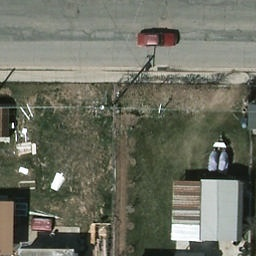boat: (218, 149, 231, 174), (208, 149, 220, 173)
car: (137, 30, 182, 47)
